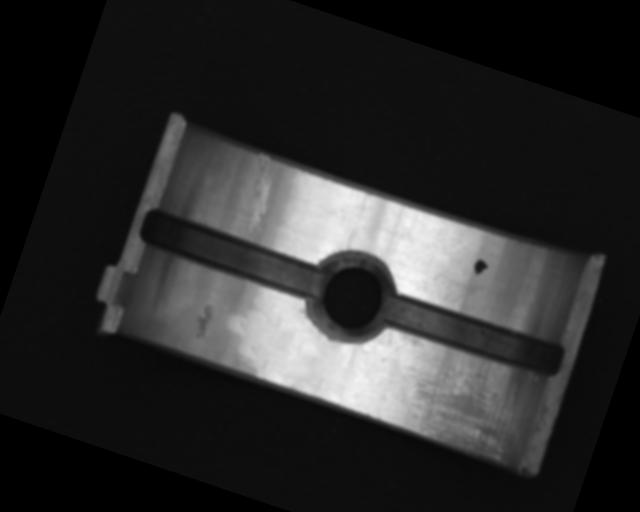blot: (470, 255, 491, 278)
bruise: (189, 300, 220, 343)
gap: (136, 203, 330, 305), (376, 287, 567, 383)
hole: (299, 241, 406, 353)
nick: (235, 152, 284, 234)
scratch: (392, 339, 544, 470)
